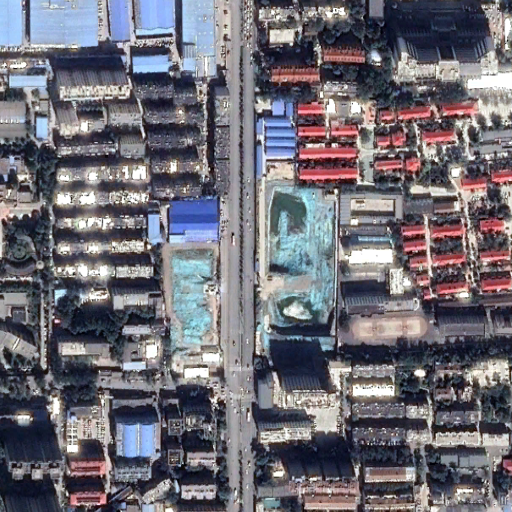cw: (263, 184, 333, 339), (171, 247, 218, 350)
